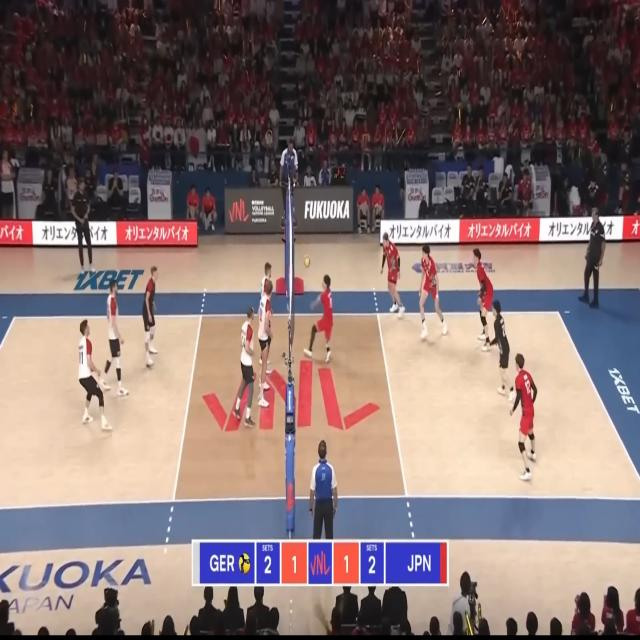ball: (304, 254, 311, 268)
